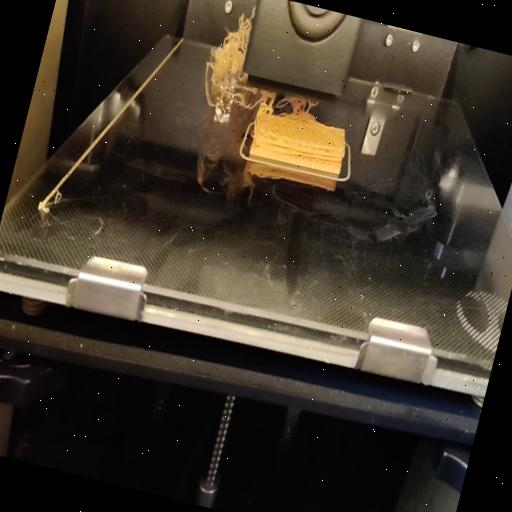spaghetti: (196, 2, 256, 116), (230, 71, 330, 134)
